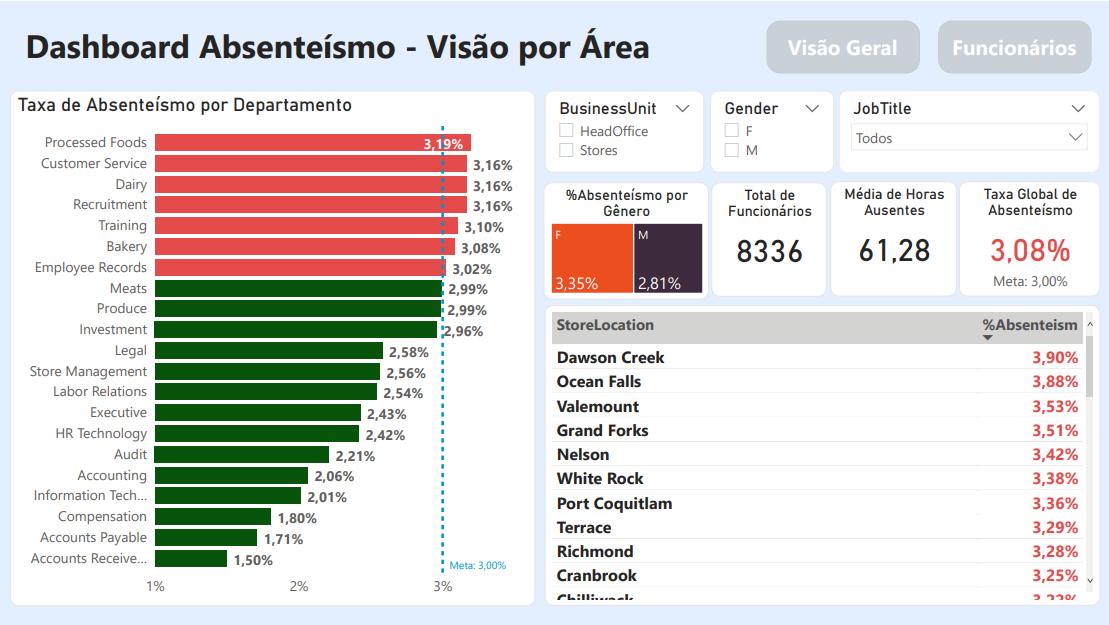

The dashboard page shown, as its layout file describes it:
{"tool":"powerbi","page":{"name":"Áreas","canvas":[1280,720],"ordinal":1},"visuals":[{"type":"clusteredBarChart","title":"Taxa de Absenteísmo por Departamento","fields":{"Y":["MFGEmployees4.%Absenteism"],"Category":["MFGEmployees4.DepartmentName"]},"box":[8.4,102.5,598,280.5],"z":0},{"type":"card","title":"Taxa Global de Absenteísmo","fields":{"Values":["MFGEmployees4.%Absenteism"]},"box":[1109.4,207.9,163.3,133.3],"z":500},{"type":"card","title":"Média de Horas Ausentes","fields":{"Values":["Avg(MFGEmployees4.AbsentHours)"]},"box":[955.3,207.9,146.4,133.3],"z":3000},{"type":"card","title":"Total de Funcionários","fields":{"Values":["Count(MFGEmployees4.EmployeeNumber)"]},"box":[814.3,209.2,133.3,132],"z":3750},{"type":"treemap","title":"%Absenteísmo por Gênero","fields":{"Group":["MFGEmployees4.Gender"],"Values":["MFGEmployees4.%Absenteism"]},"box":[616.6,209.2,189.9,134.9],"z":4500},{"type":"pivotTable","title":"Taxa de Absenteísmo por Área (Drill Down ativado)","fields":{"Values":["MFGEmployees4.%Absenteism"],"Rows":["MFGEmployees4.StoreLocation"]},"box":[616.6,351,655.1,346.8],"z":5000},{"type":"slicer","fields":{"Values":["MFGEmployees4.Division"]},"box":[616.6,103.2,213.3,95],"z":6000},{"type":"slicer","fields":{"Values":["MFGEmployees4.Gender"]},"box":[1139.6,103.2,132.1,95],"z":7000},{"type":"slicer","fields":{"Values":["MFGEmployees4.JobTitle"]},"box":[834,103.2,301.4,95],"z":8000},{"type":"actionButton","box":[884.7,22,176.9,61.4],"z":9000},{"type":"actionButton","box":[1081.6,22,176.9,61.4],"z":10000},{"type":"textbox","title":"Dashboard Absenteísmo - Visão Geral","box":[23.4,21,750.1,61.9],"z":11000},{"type":"scatterChart","title":"Taxa de Absenteísmo por Tamanho do Departamento","fields":{"Size":["Count(MFGEmployees4.EmployeeCode)"],"Y":["MFGEmployees4.%Absenteism"],"X":["MFGEmployees4.DepartmentName"]},"box":[9,394.1,596.4,302.7],"z":11001},{"type":"textbox","box":[9.6,690,607,30],"z":11002}]}

Visuals, with their boxes in screenshot pixels (x1, y1, x2, y2), scaled from the page's 1280x720 canvas onto the 1109x625 screenshot:
"Taxa de Absenteísmo por Departamento" clusteredBarChart: (left=7, top=89, right=525, bottom=332)
"Taxa Global de Absenteísmo" card: (left=961, top=180, right=1103, bottom=296)
"Média de Horas Ausentes" card: (left=828, top=180, right=955, bottom=296)
"Total de Funcionários" card: (left=706, top=182, right=821, bottom=296)
"%Absenteísmo por Gênero" treemap: (left=534, top=182, right=699, bottom=299)
"Taxa de Absenteísmo por Área (Drill Down ativado)" pivotTable: (left=534, top=305, right=1102, bottom=606)
slicer - MFGEmployees4.Division: (left=534, top=90, right=719, bottom=172)
slicer - MFGEmployees4.Gender: (left=987, top=90, right=1102, bottom=172)
slicer - MFGEmployees4.JobTitle: (left=723, top=90, right=984, bottom=172)
actionButton: (left=767, top=19, right=920, bottom=72)
actionButton: (left=937, top=19, right=1090, bottom=72)
"Dashboard Absenteísmo - Visão Geral" textbox: (left=20, top=18, right=670, bottom=72)
"Taxa de Absenteísmo por Tamanho do Departamento" scatterChart: (left=8, top=342, right=525, bottom=605)
textbox: (left=8, top=599, right=534, bottom=624)
